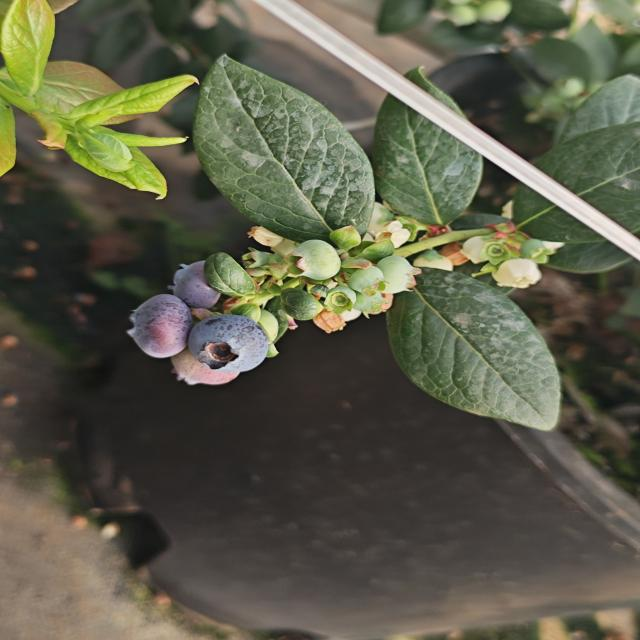ripe: (185, 312, 271, 374), (124, 292, 194, 361), (171, 255, 225, 309)
